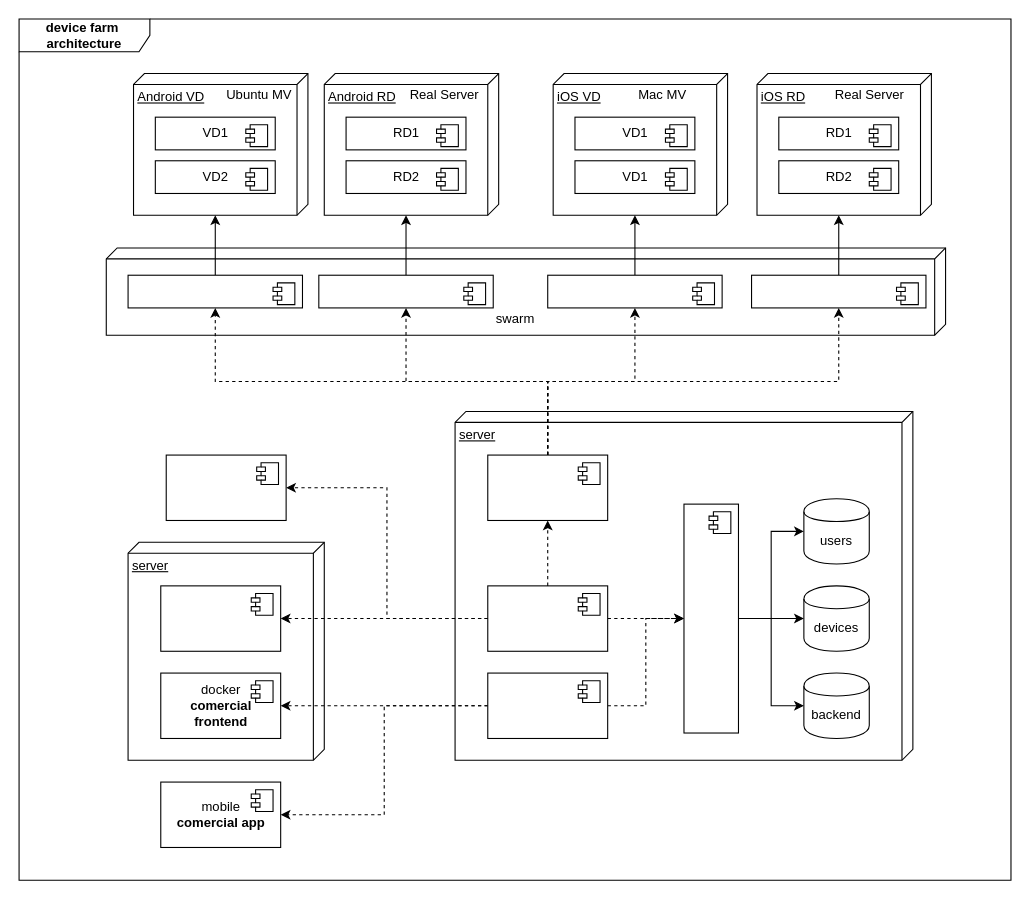
This 1030x899 diagram has some shape labels left out. The shapes that lost their labels are listed below. From the top down, each one's centre as x and y in pixels, then its label:
At (x=214, y=291): "appium server 1".
At (x=405, y=291): "appium server 2".
At (x=634, y=291): "appium server 3".
At (x=838, y=291): "appium server 4".
At (x=225, y=487): "mobile internal app".
At (x=547, y=487): "docker device handler".
At (x=220, y=618): "docker frontend".
At (x=547, y=618): "docker backend".
At (x=710, y=618): "DB Handler".
At (x=547, y=705): "docker comercial backend".
